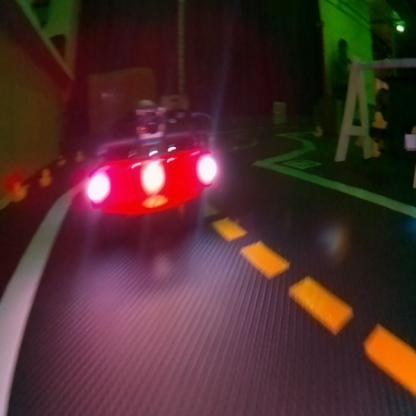duckiebot: (61, 94, 224, 251)
